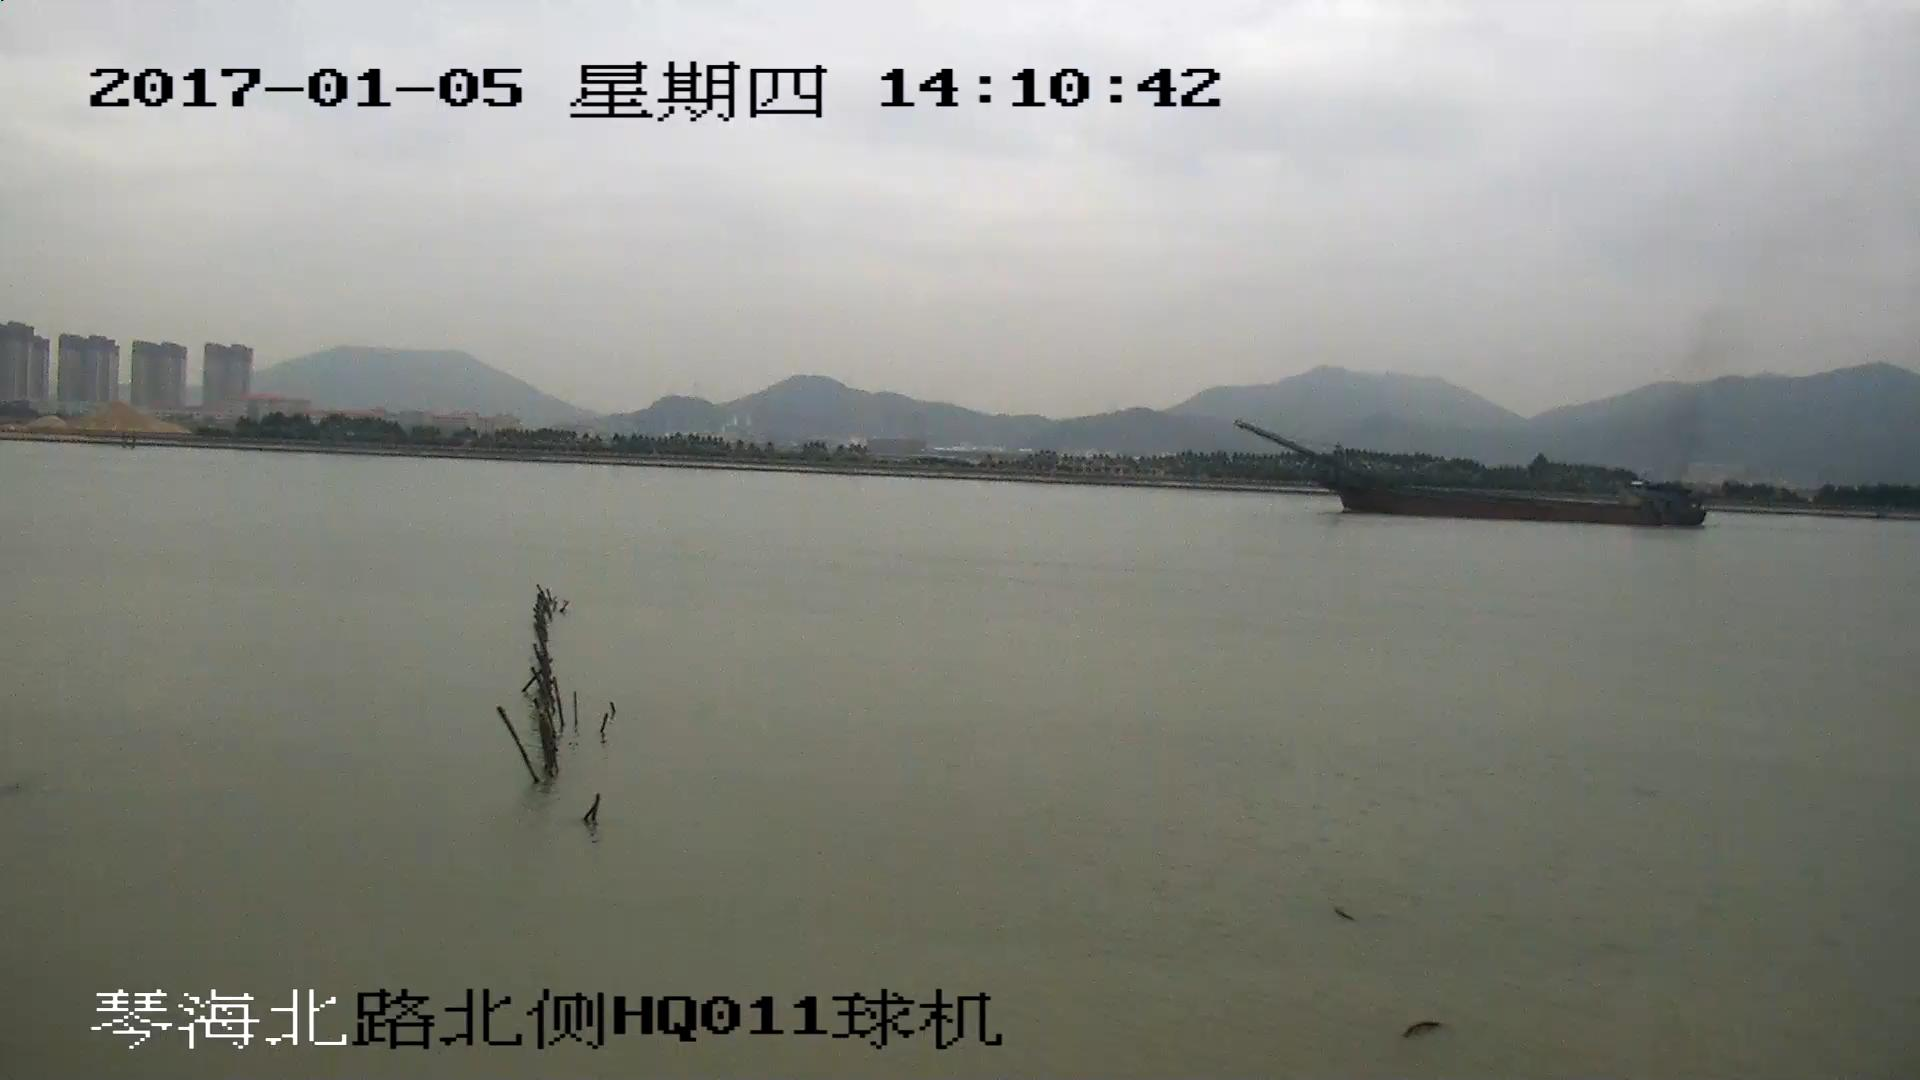bulk cargo carrier: (1240, 417, 1709, 527)
